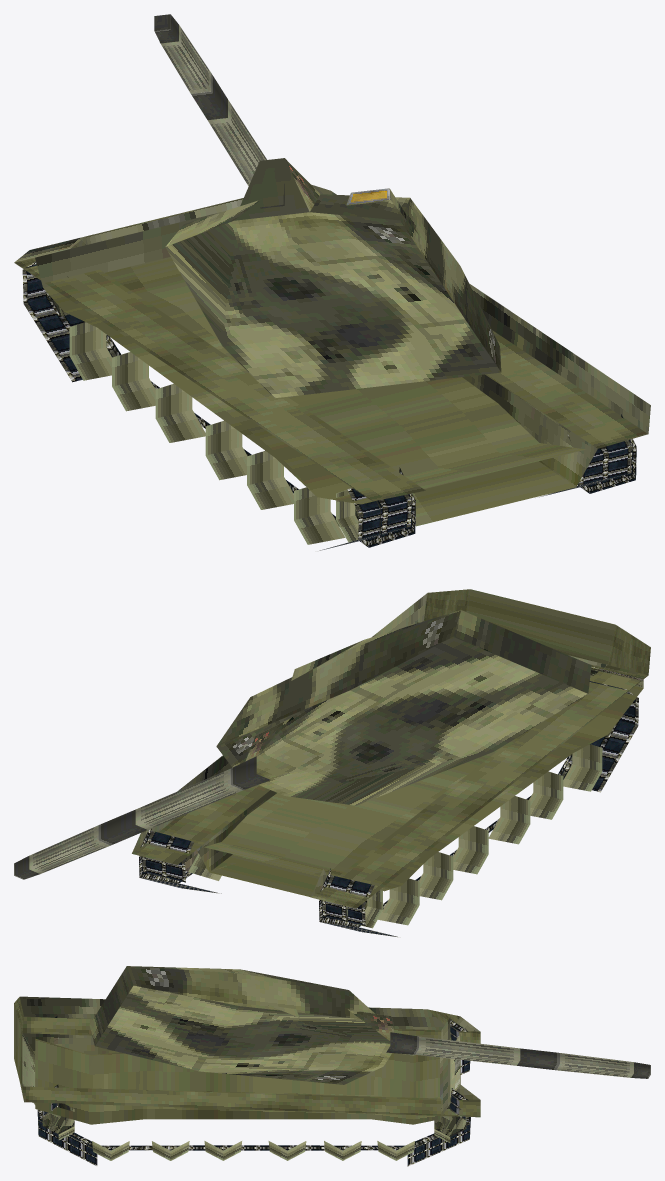
Rendered from ps2_save-icons_hardwareonlinearena.glb.
The picture shows the model from 3 angles, top to bottom: view 1: azimuth 30°, elevation 25°; view 2: azimuth 150°, elevation 25°; view 3: azimuth 270°, elevation 25°; orthographic projection. The views are drawn at different scales.
Parts seen in each view (by area): view 1: list.ico; view 2: list.ico; view 3: list.ico.
Part boxes in pixels (x1,y1,x2,y2): list.ico: [14, 14, 650, 550]; list.ico: [14, 589, 650, 937]; list.ico: [14, 966, 650, 1166].
Bounding box in the file's own units: 1.66 × 1.1 × 4.8.
Materials: 1 (1 with a texture image).
